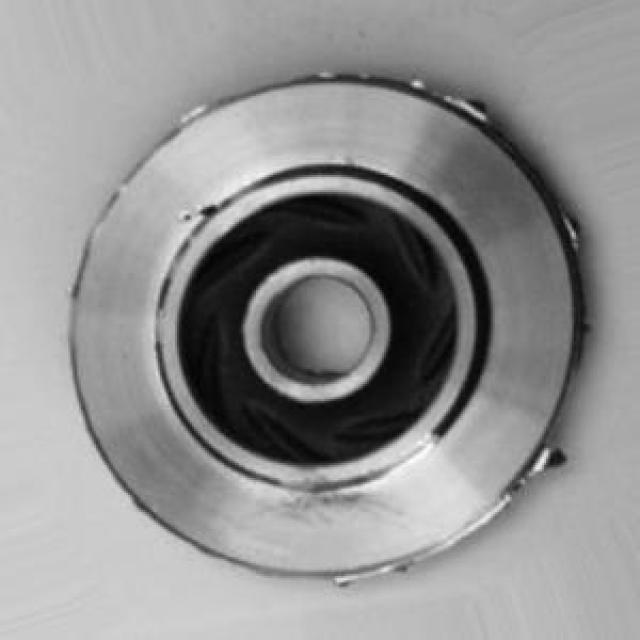Defect: (170, 184, 248, 237), (498, 441, 575, 487), (441, 87, 516, 129)
